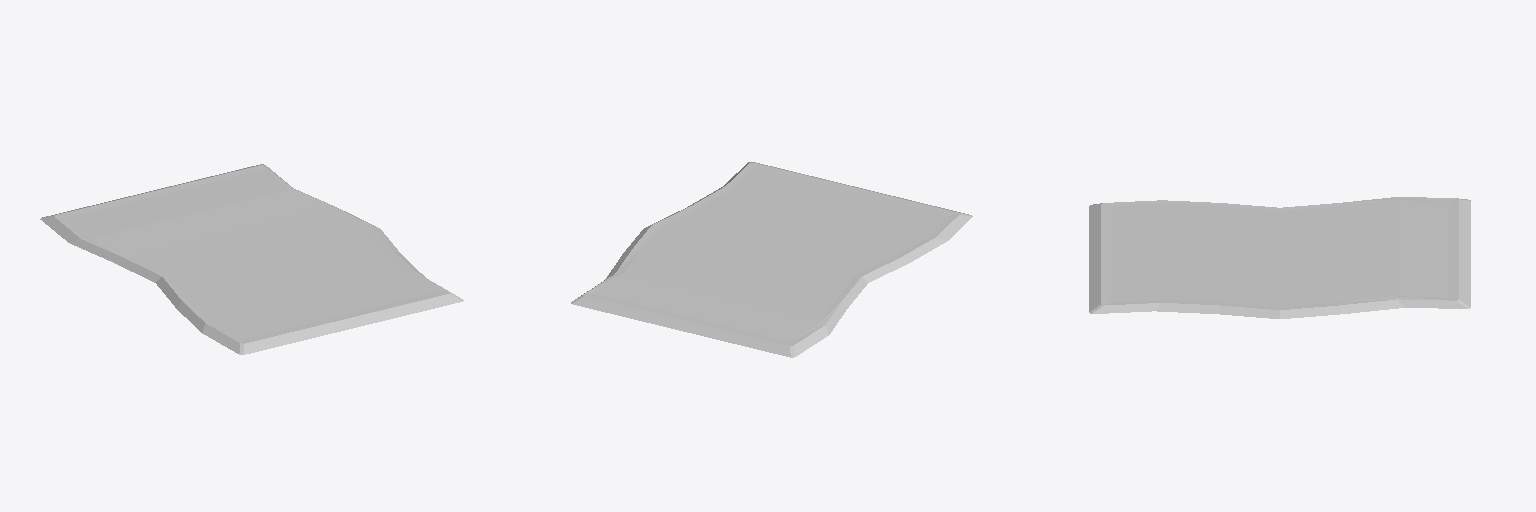
The model's file is carpet.obj.
3 views of the same model, side by side, from view 1: azimuth 30°, elevation 25°; view 2: azimuth 150°, elevation 25°; view 3: azimuth 270°, elevation 25° (orthographic).
Parts seen in each view (by area): view 1: carpet Hall; view 2: carpet Hall; view 3: carpet Hall.
Part boxes in pixels (left/top/right/bottom): carpet Hall: left=40, top=164, right=463, bottom=354; carpet Hall: left=571, top=162, right=972, bottom=357; carpet Hall: left=1089, top=197, right=1470, bottom=318.
Size of the model in its own units: 21.86 by 0.4658 by 29.15.